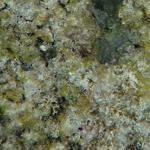dead: (3, 2, 144, 146)
